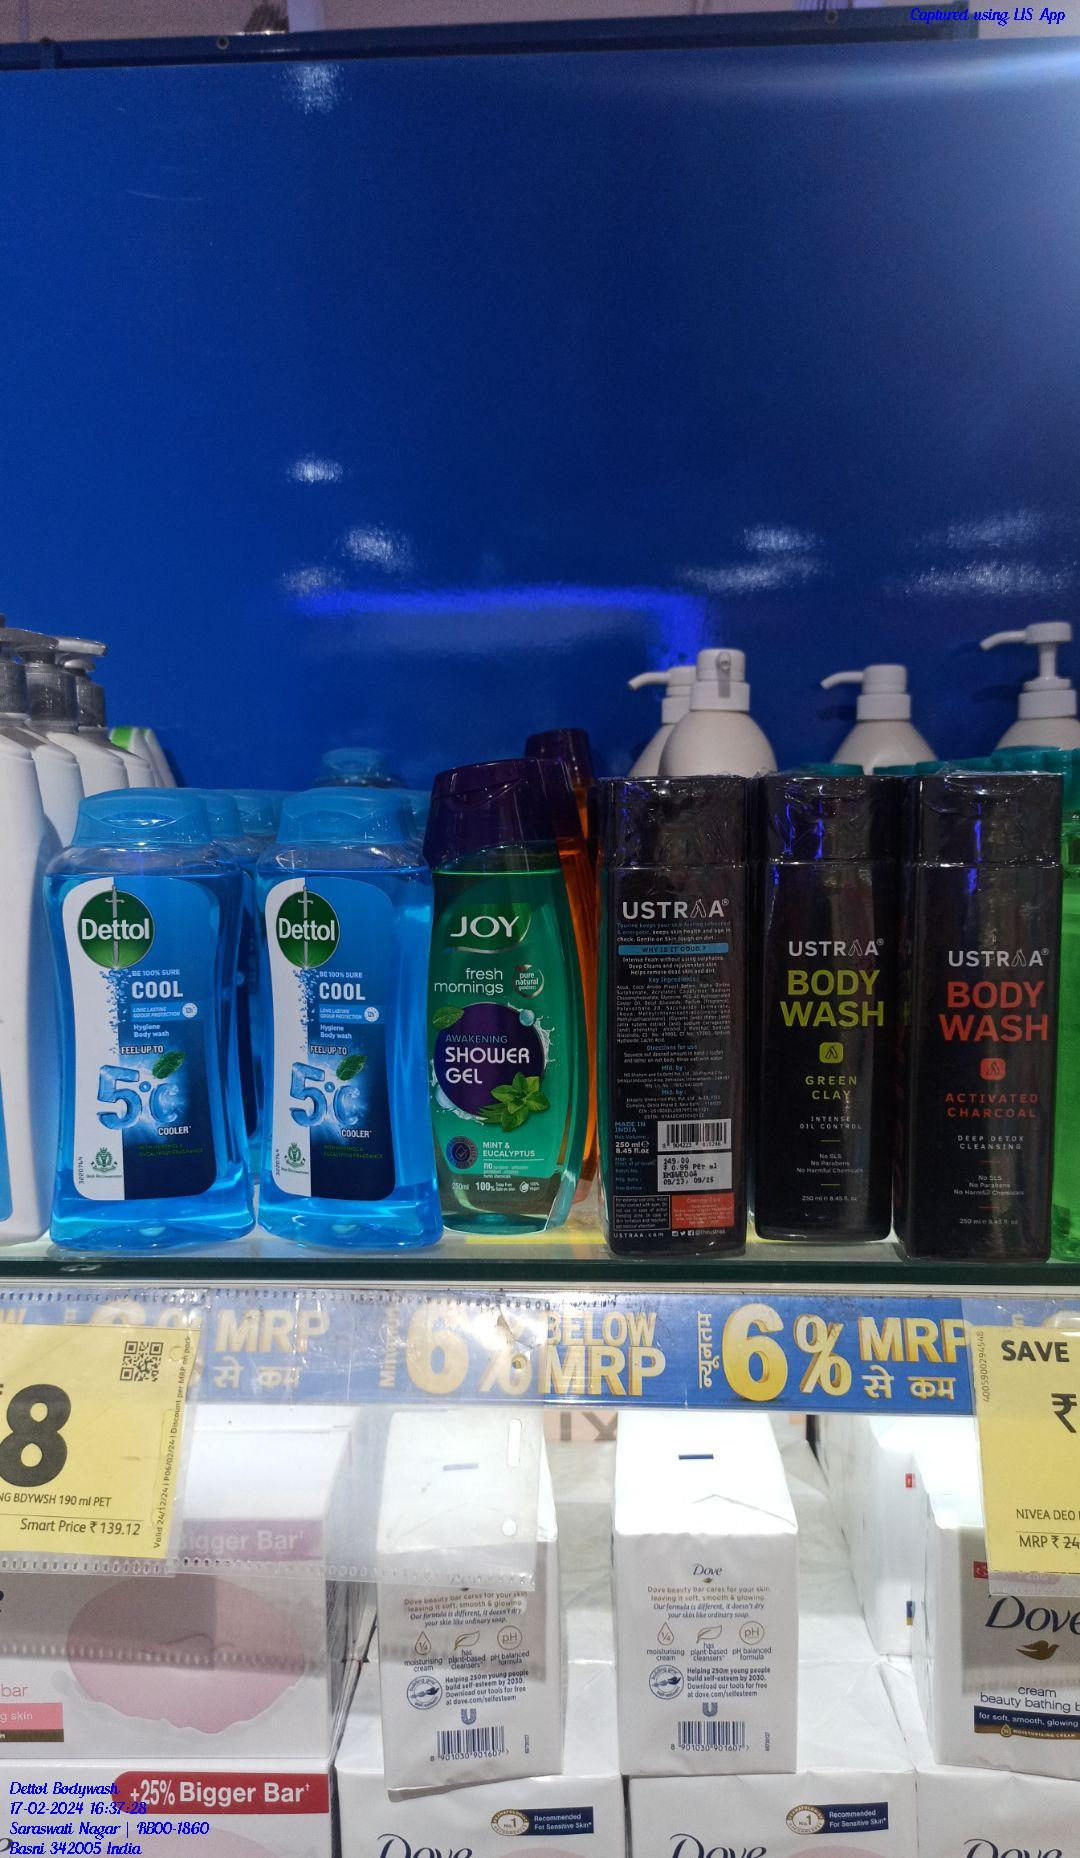Dettol_Bodywash_Cool: (48, 783, 252, 1256), (258, 782, 442, 1249)
Joy_Shower_Gel_Mint_and_Eucalyptus_250ML: (446, 757, 582, 1237)
